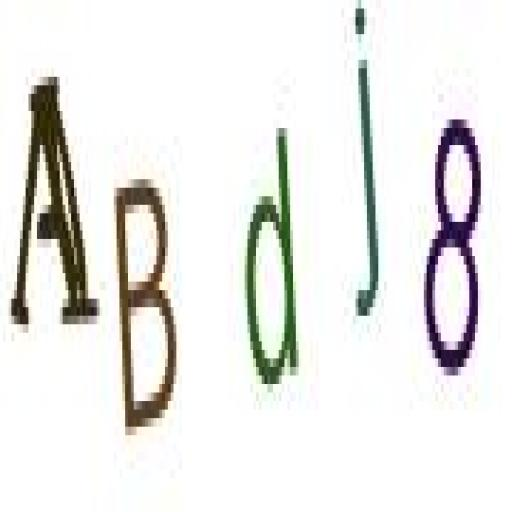8: (417, 81, 493, 394)
A: (7, 58, 108, 355)
B: (111, 168, 185, 443)
d: (233, 120, 306, 409)
j: (338, 0, 390, 333)
